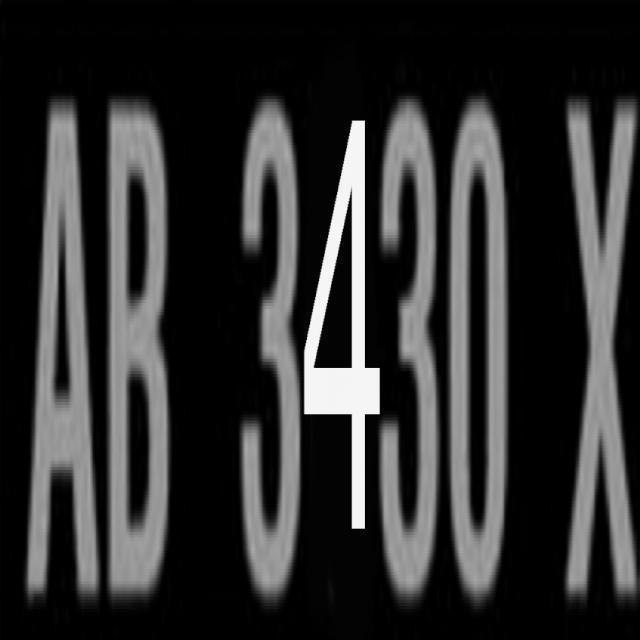0: (448, 98, 508, 627)
3: (236, 85, 306, 610), (381, 100, 448, 594)
4: (304, 103, 376, 555)
A: (19, 90, 106, 611)
B: (96, 86, 190, 610)
X: (550, 90, 640, 626)
